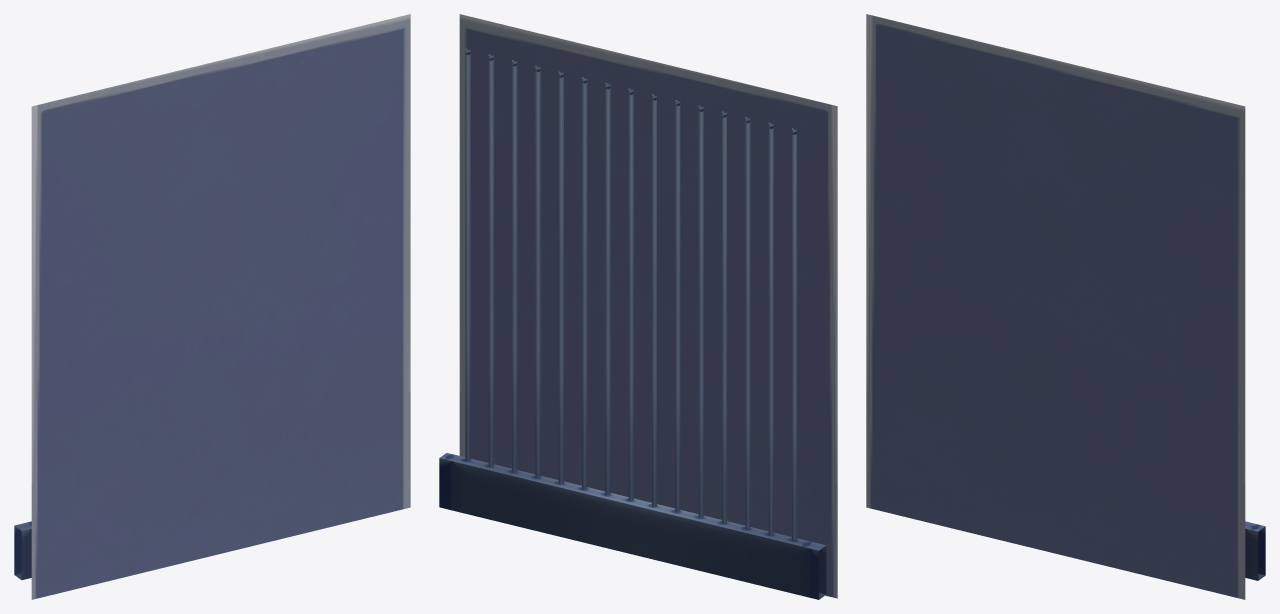
The model's file is PUERTA Trasera.fbx.
3 views of the same model, side by side, from view 1: azimuth 30°, elevation 25°; view 2: azimuth 150°, elevation 25°; view 3: azimuth 330°, elevation 25° (orthographic).
Parts seen in each view (by area): view 1: puerta.001; view 2: puerta.001; view 3: puerta.001.
Part boxes in pixels (x1,y1,x2,y2): puerta.001: [14, 14, 410, 599]; puerta.001: [439, 14, 837, 599]; puerta.001: [866, 14, 1265, 599].
Size of the model in its own units: 361 by 447 by 29.65.
